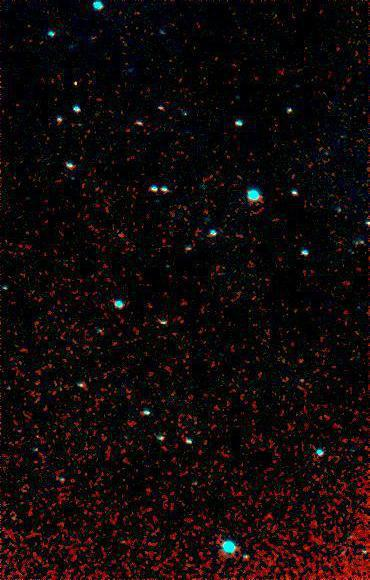star: (60, 69, 90, 99)
